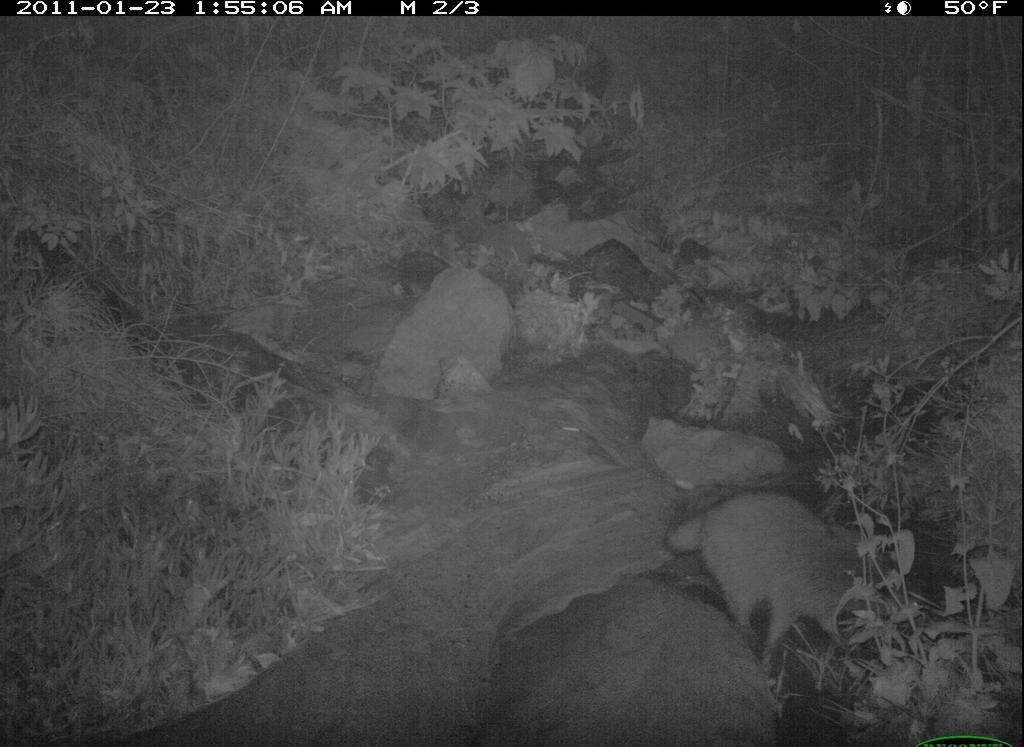raccoon: (657, 486, 911, 660)
